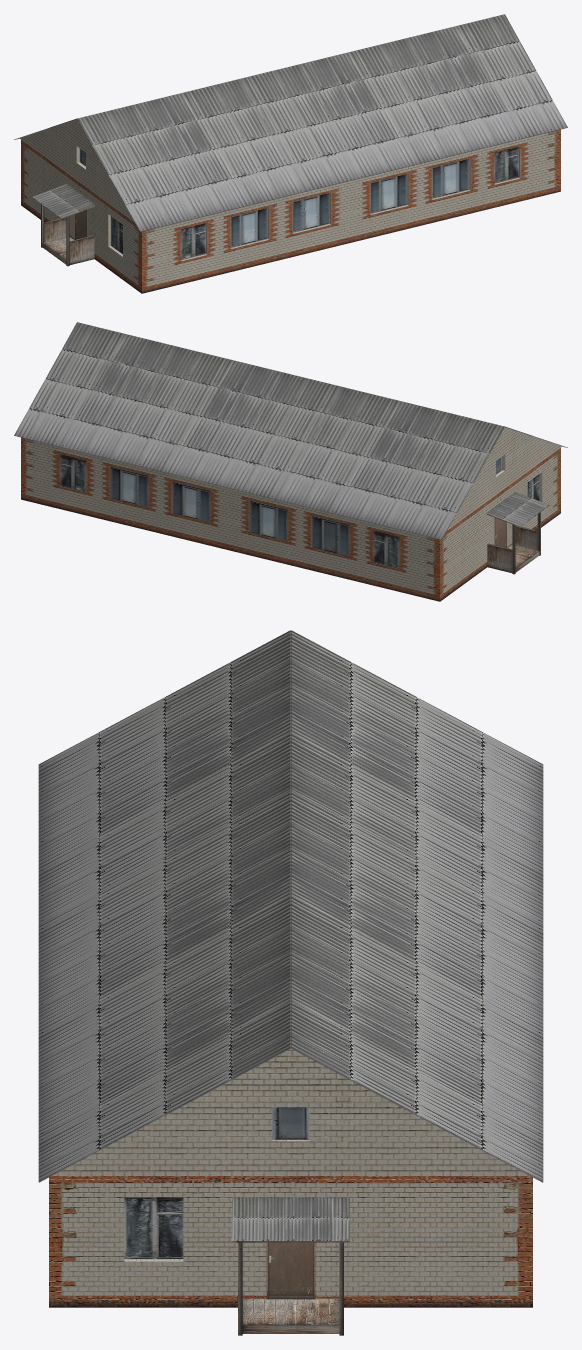
Rendered from r402_tushnolobovo_dom1.FBX.
3 renders of one model, top to bottom at view 1: azimuth 30°, elevation 25°; view 2: azimuth 150°, elevation 25°; view 3: azimuth 270°, elevation 25°, orthographic. The views are drawn at different scales.
Visible parts, largest first — view 1: r402_tushnolobovo_dom1; view 2: r402_tushnolobovo_dom1; view 3: r402_tushnolobovo_dom1.
Part boxes in pixels (box(x1,y1,x2,y2)): r402_tushnolobovo_dom1: box(14, 14, 567, 293); r402_tushnolobovo_dom1: box(14, 322, 567, 601); r402_tushnolobovo_dom1: box(38, 630, 543, 1335).
Size of the model in its own units: 2330 by 1043 by 606.
